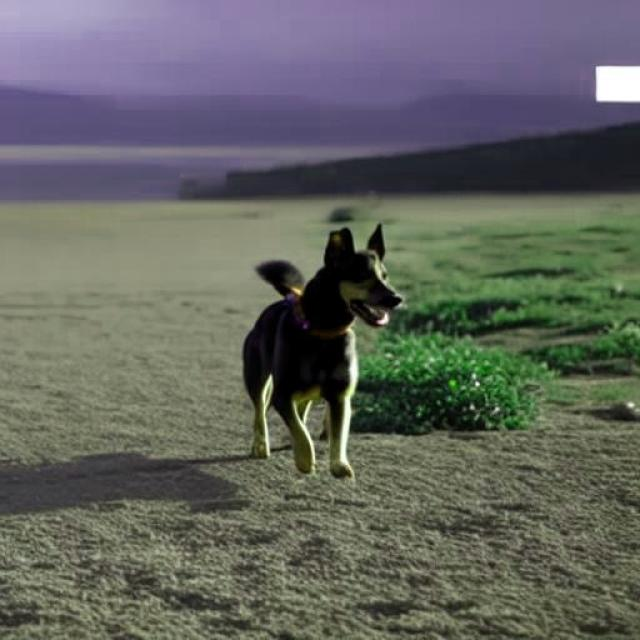Dog: (241, 223, 403, 480)
